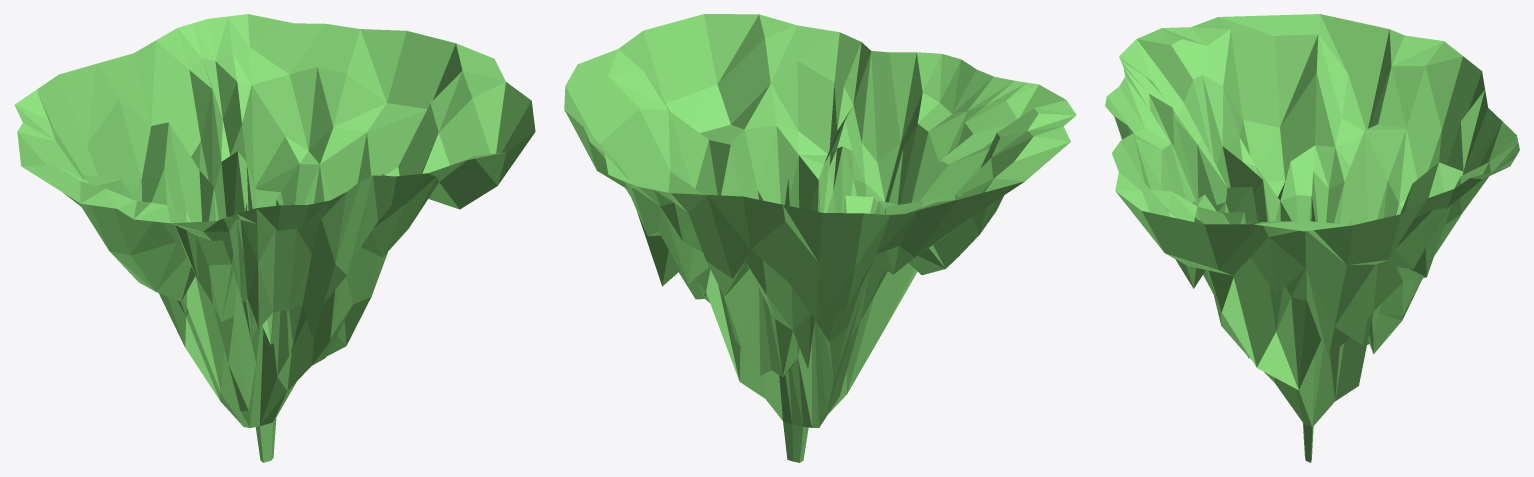
Rendered from island_bottom.fbx.
3 views of the same model, side by side, from view 1: azimuth 30°, elevation 25°; view 2: azimuth 150°, elevation 25°; view 3: azimuth 270°, elevation 25° (orthographic). The views are drawn at different scales.
Parts seen in each view (by area): view 1: Circle.011; view 2: Circle.011; view 3: Circle.011.
Part boxes in pixels (x1,y1,x2,y2): Circle.011: (14, 14, 535, 462); Circle.011: (564, 14, 1076, 462); Circle.011: (1105, 14, 1519, 462).
Size of the model in its own units: 7972 by 5740 by 6430.
